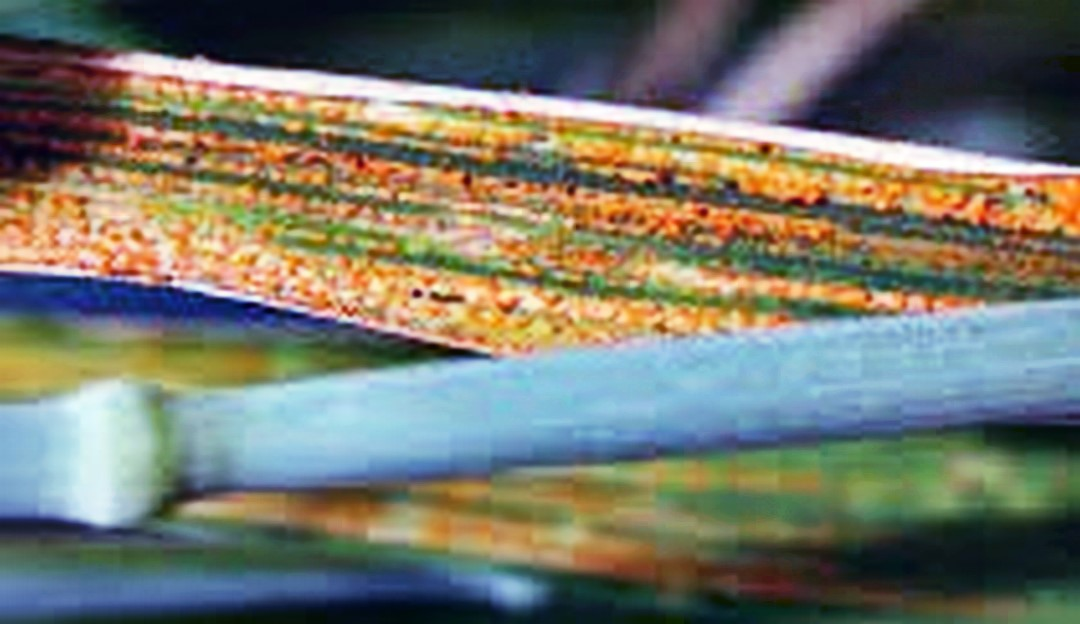Leaf Rust: (23, 44, 900, 335)
